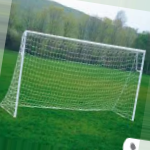goals: (1, 28, 147, 124)
